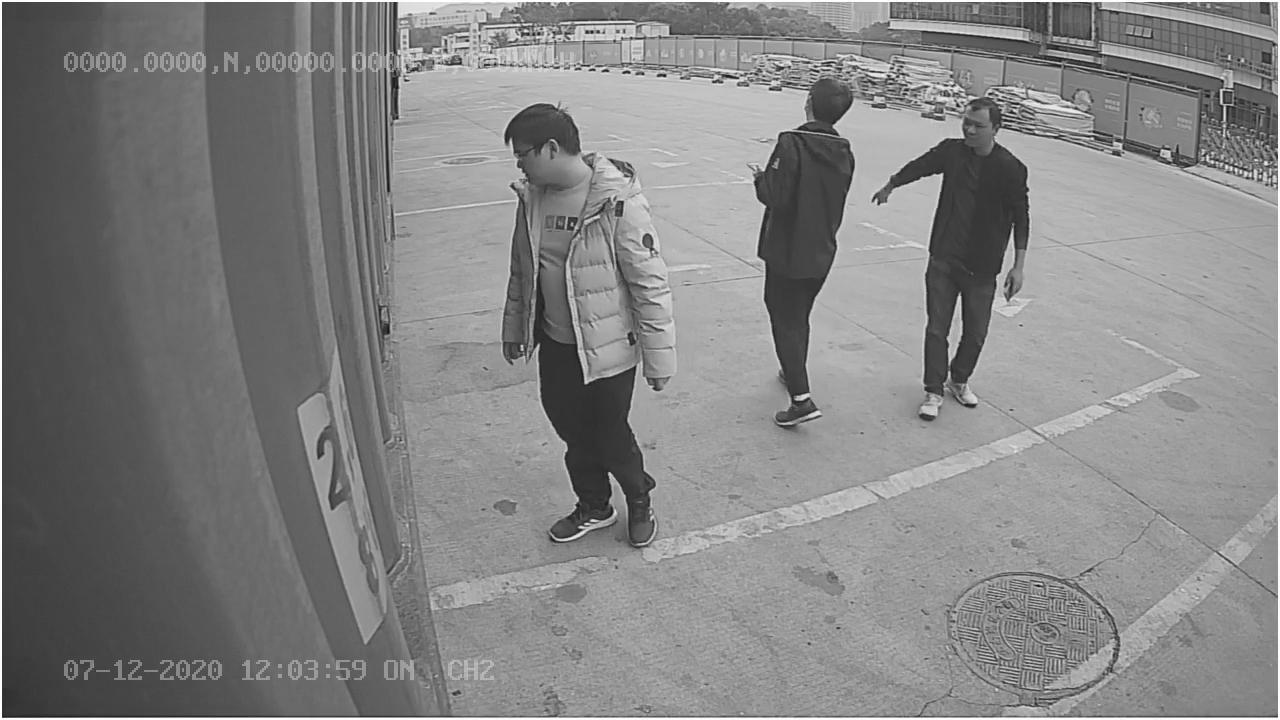person: (490, 104, 677, 548), (872, 89, 1030, 433), (747, 59, 857, 438)
